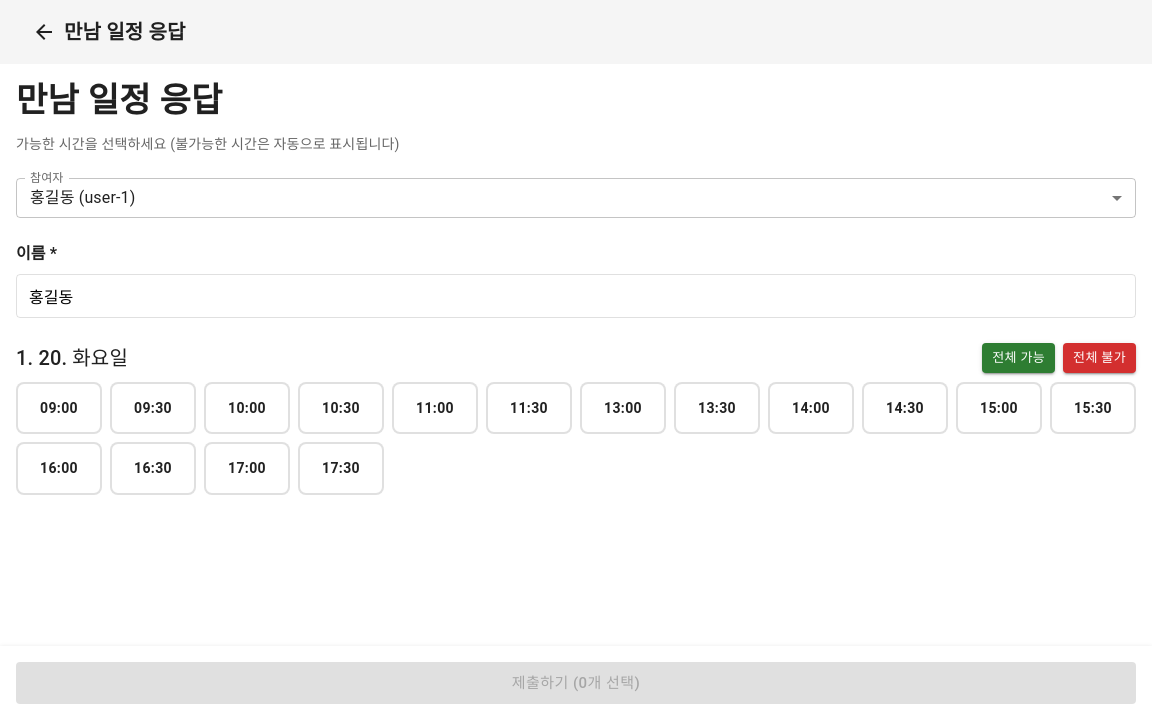
Test: ResponsePage › 시간 슬롯을 선택할 수 있어야 한다
Click the button "09:00". click: {"x": 59, "y": 408}
box: [16,382,102,434]
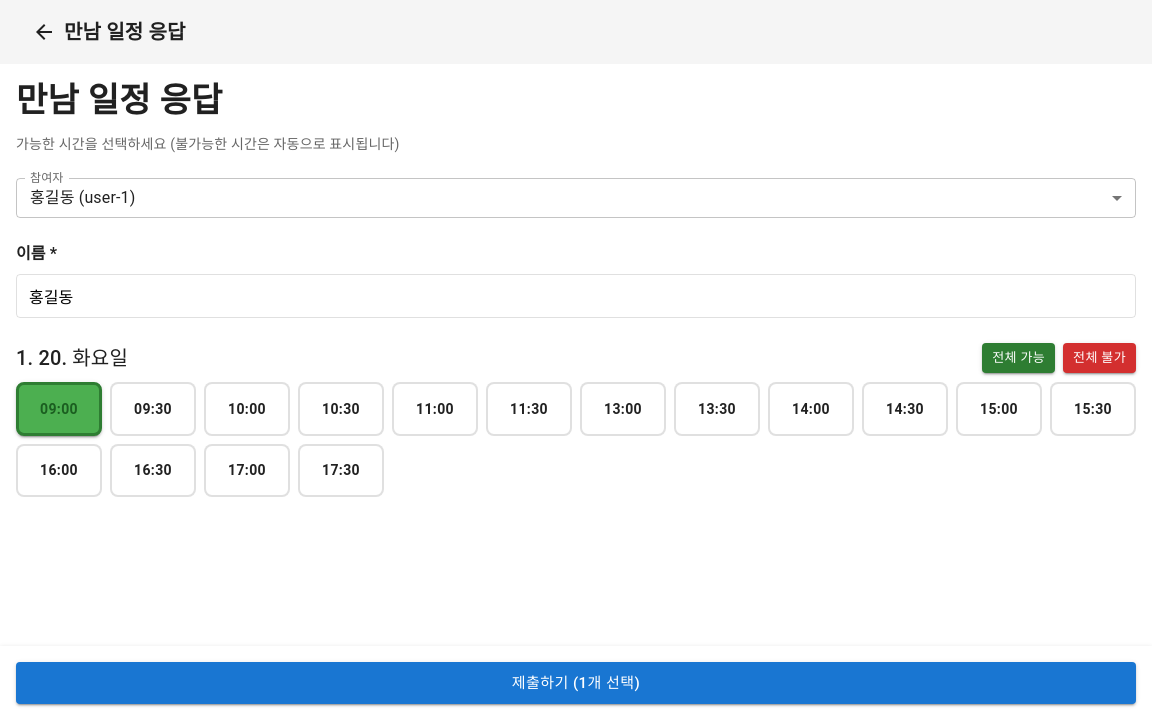
Check: the button "제출하기 (1개 선택)" is enabled, box [16,662,1136,704]
